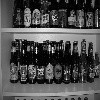beer: (8, 37, 22, 82)
